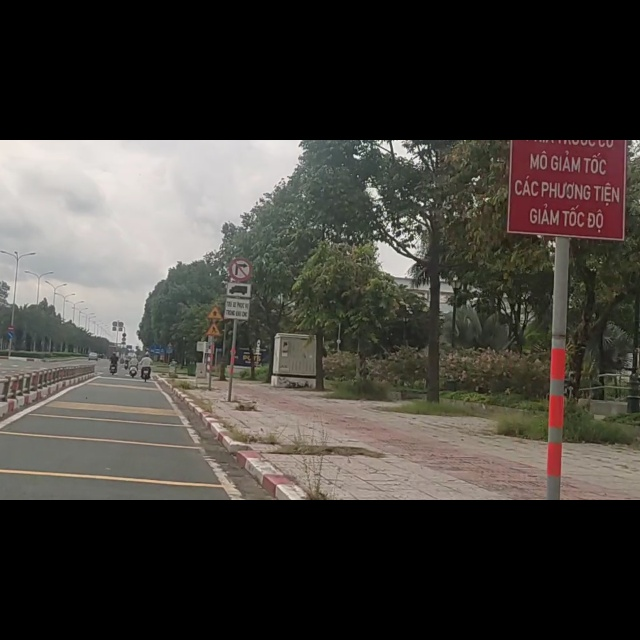bien_cam: (225, 251, 251, 320), (227, 209, 252, 249), (205, 322, 222, 350), (205, 295, 224, 320)
